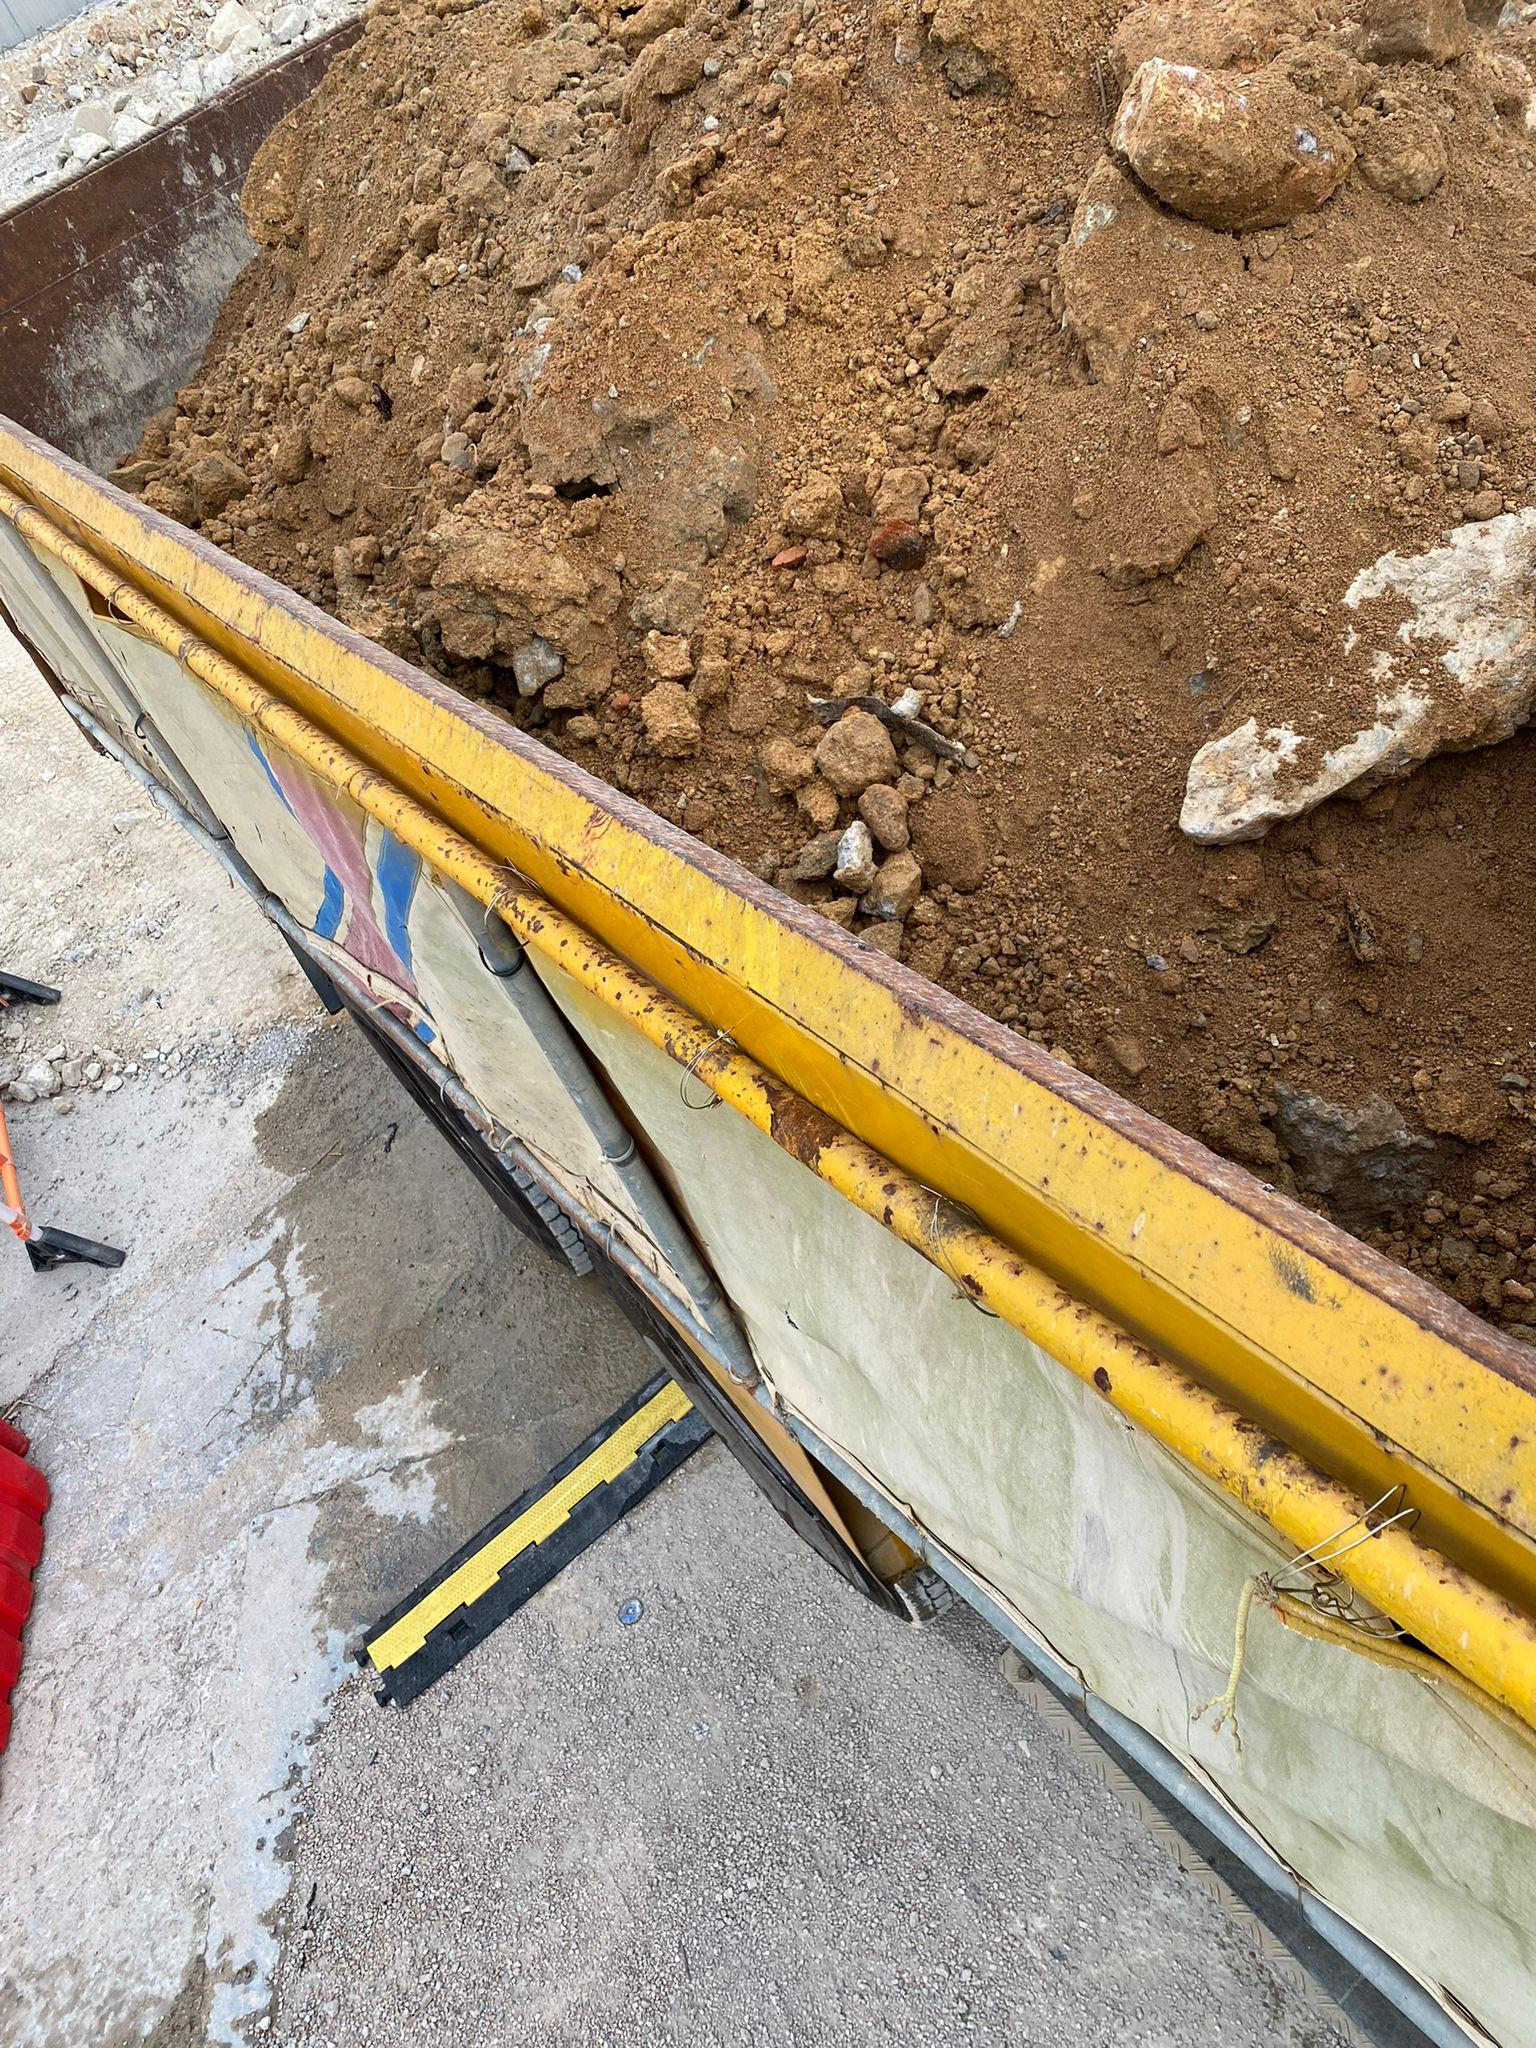dirt: (97, 0, 1536, 1347)
stone: (1175, 503, 1534, 845), (1107, 53, 1355, 232), (813, 706, 899, 793)
